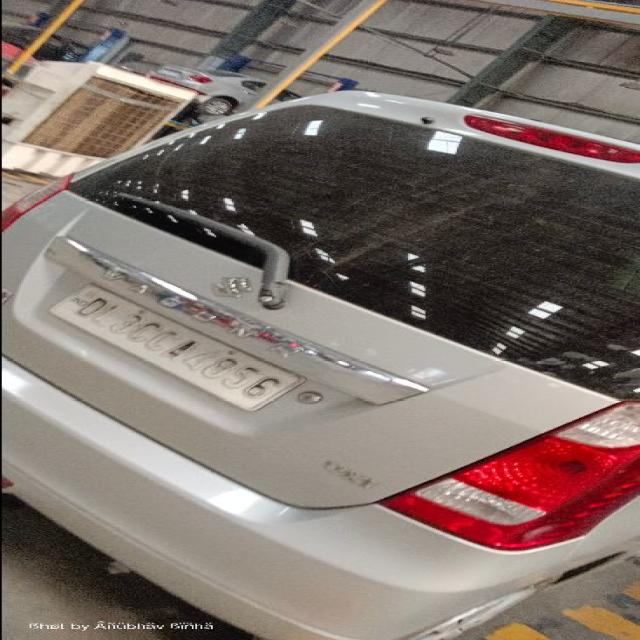license_plate: (1, 90, 636, 638), (47, 282, 307, 412)
